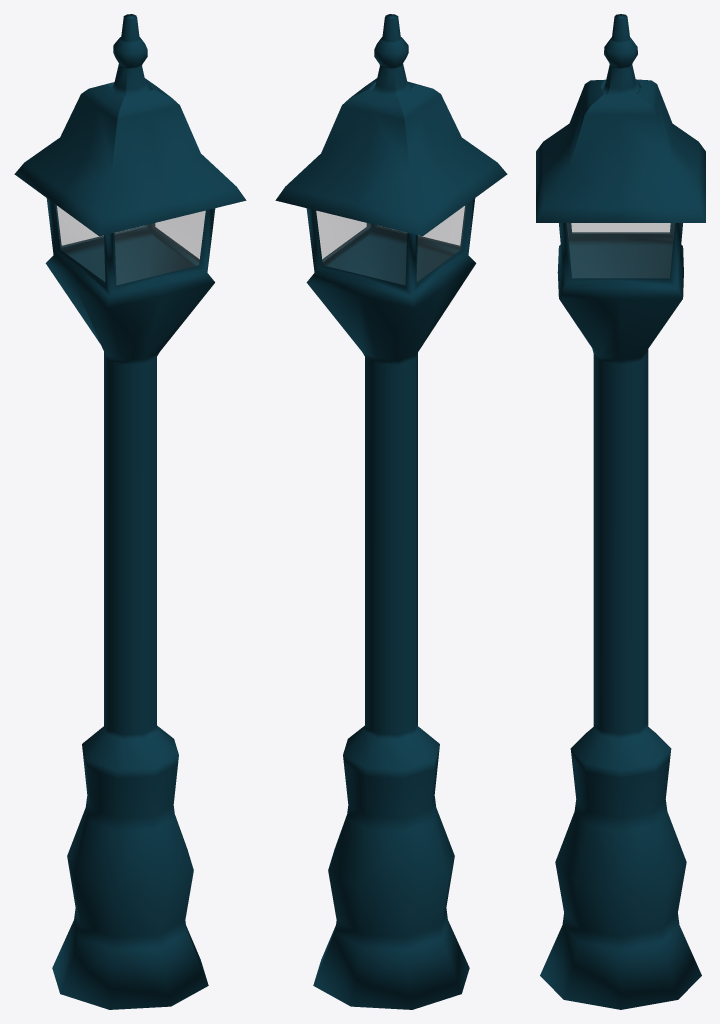
File: lampPost.fbx
3 renders of one model, left to right at view 1: azimuth 30°, elevation 25°; view 2: azimuth 150°, elevation 25°; view 3: azimuth 270°, elevation 25°, orthographic.
Visible parts, largest first — view 1: lampPost_GEO; view 2: lampPost_GEO; view 3: lampPost_GEO.
Part boxes in pixels (x1=…): lampPost_GEO: x1=14, y1=14, x2=246, y2=1009; lampPost_GEO: x1=275, y1=14, x2=507, y2=1009; lampPost_GEO: x1=536, y1=14, x2=705, y2=1009.
Size of the model in its own units: 1.48 by 9.25 by 1.48.
